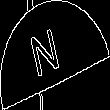N_S: (36, 24, 74, 86)
